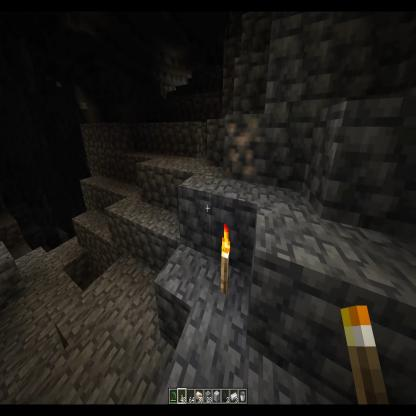iron ore: (223, 114, 261, 183)
